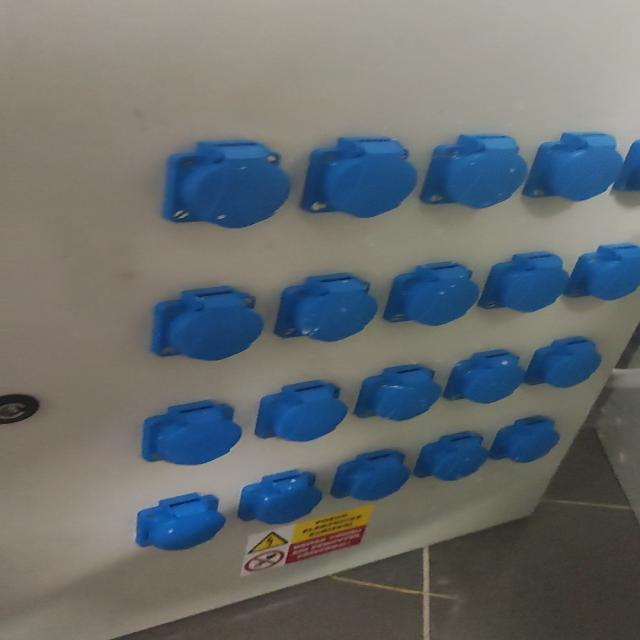house plug covered: (162, 144, 292, 231), (299, 136, 418, 220), (151, 286, 264, 362), (420, 133, 528, 209), (273, 273, 380, 345), (523, 132, 624, 203), (140, 400, 242, 466), (478, 251, 569, 313), (385, 267, 479, 327), (133, 494, 225, 554), (255, 384, 344, 443), (354, 366, 441, 421), (238, 471, 321, 527), (563, 243, 640, 301), (443, 349, 524, 404), (329, 450, 409, 504), (413, 431, 488, 481), (530, 341, 602, 391), (489, 418, 559, 463)
